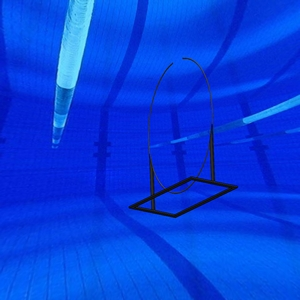circle: (129, 56, 240, 219)
